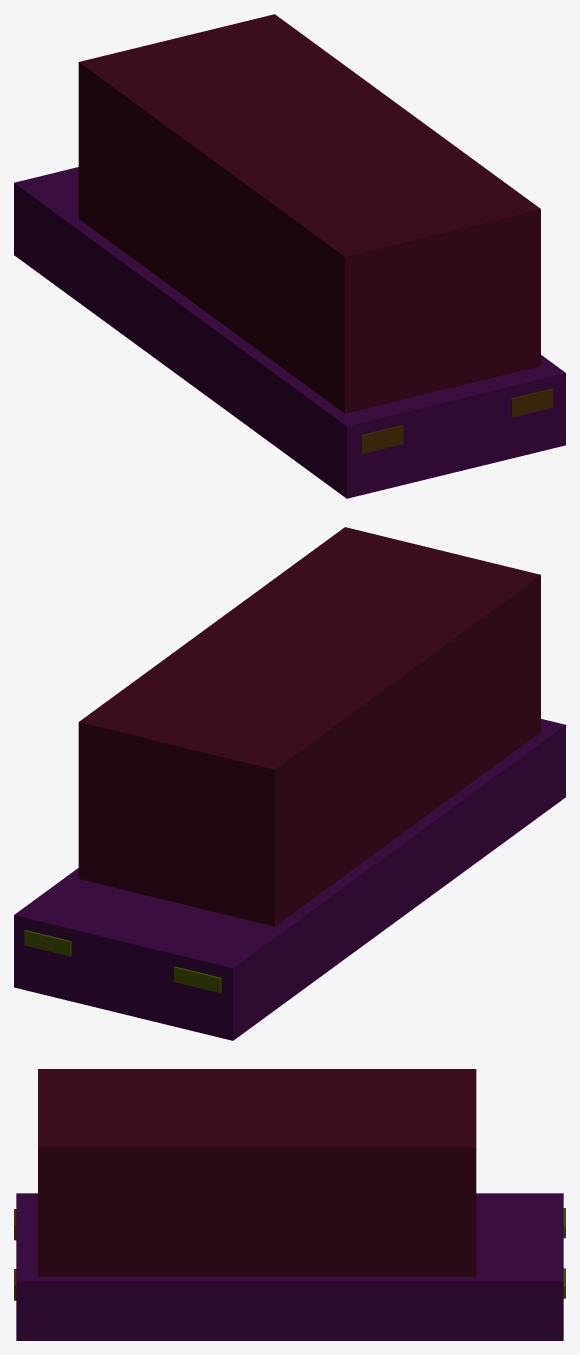
File: van.glb
The picture shows the model from 3 angles, top to bottom: view 1: azimuth 30°, elevation 25°; view 2: azimuth 150°, elevation 25°; view 3: azimuth 270°, elevation 25°; orthographic projection. The views are drawn at different scales.
Parts seen in each view (by area): view 1: van; view 2: van; view 3: van.
Boxes of the visible parts, x1,y1,x2,y2 form: van: (14,14,565,498); van: (14,527,565,1040); van: (14,1069,565,1340).
Bounding box in the file's own units: 1.9 × 1.9 × 5.04.
